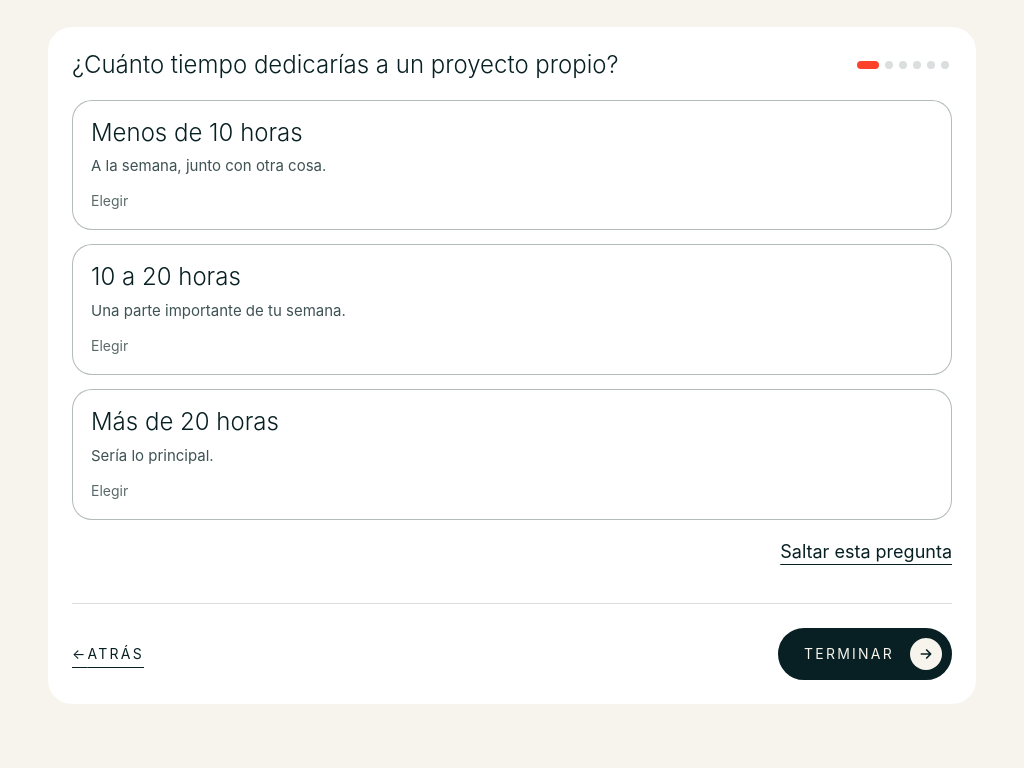
Test: FormaView › «Saltar esta pregunta» pasa a la siguiente sin contestar, y «Anterior» vuelve (no está en la primera)
The image size is (1024, 768).
(page scrolled)
Check: the button "Anterior" is not shown
Click the button "Saltar esta pregunta".
click(866, 552)  # box [780,538,952,567]
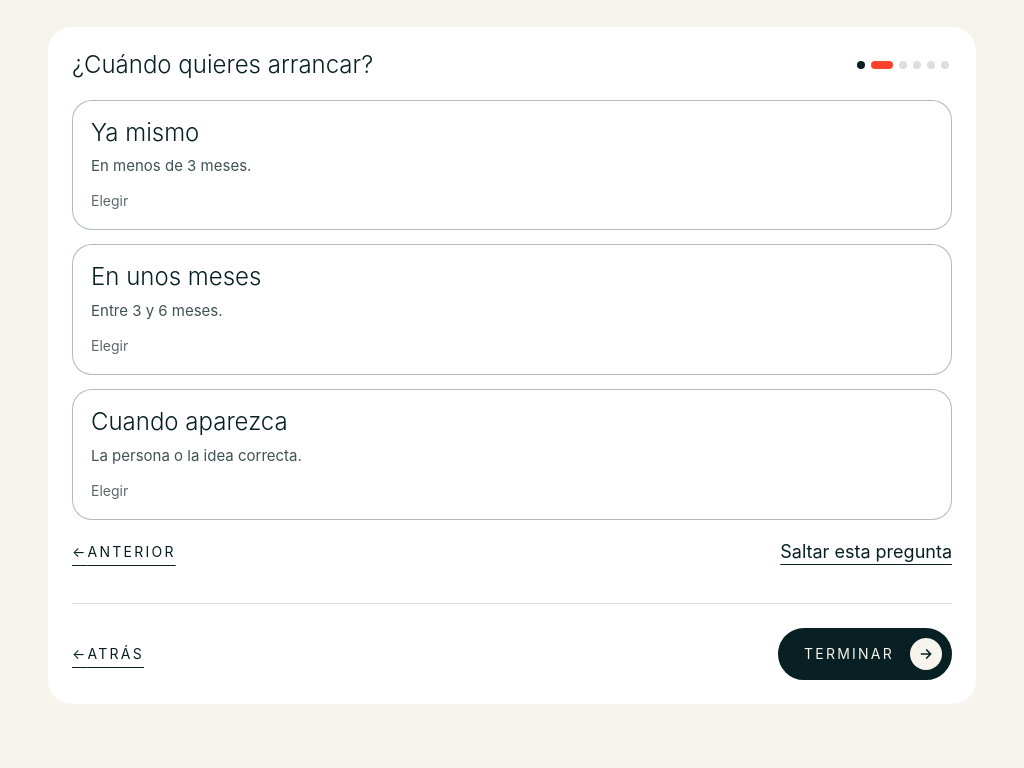
Check: the element "¿Cuándo quieres arrancar?" is shown, box [72,51,952,520]
Click the button "← Anterior".
click(124, 552)  # box [72,540,176,564]
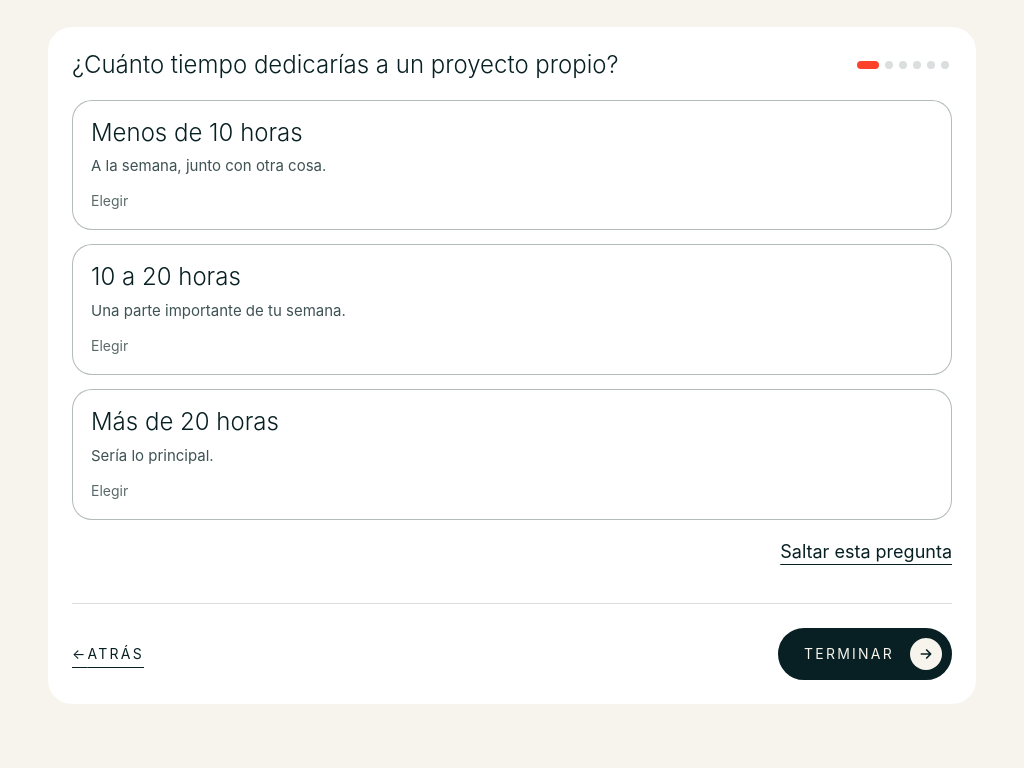
Check: the element "¿Cuánto tiempo dedicarías a un proyecto propio?" is shown, box [72,51,952,520]
